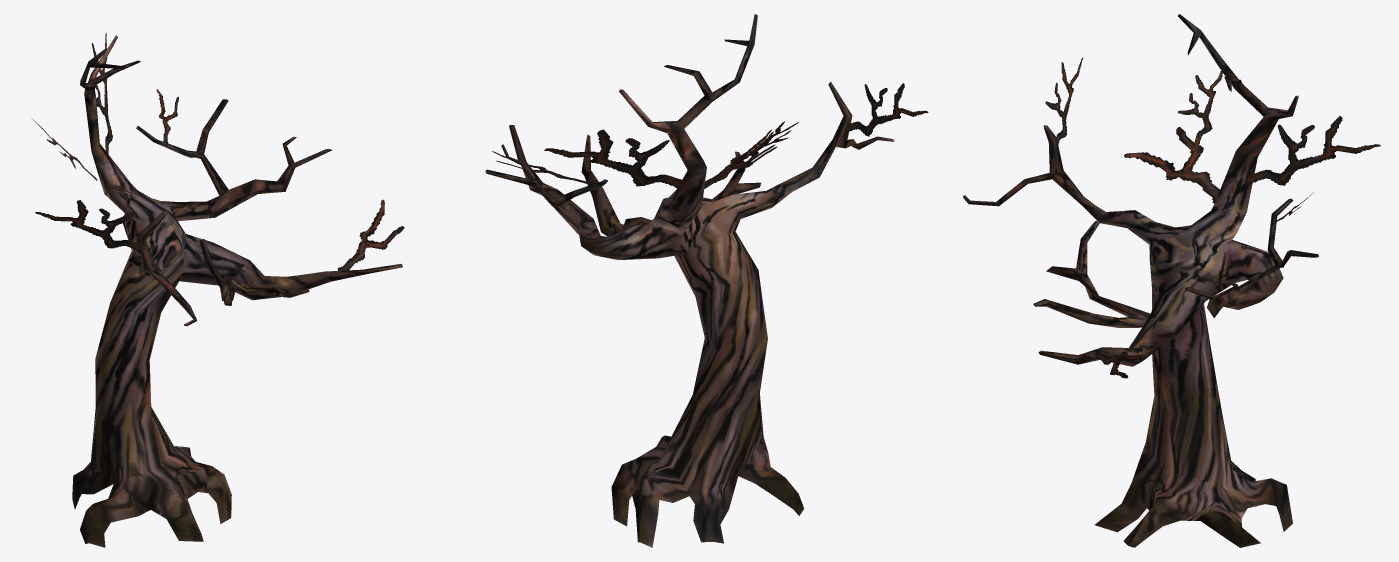
The model's file is FOL_DeadTreeA.FBX.
3 renders of one model, left to right at view 1: azimuth 30°, elevation 25°; view 2: azimuth 150°, elevation 25°; view 3: azimuth 270°, elevation 25°, orthographic. The views are drawn at different scales.
Parts seen in each view (by area): view 1: FOL_DeadTreeA; view 2: FOL_DeadTreeA; view 3: FOL_DeadTreeA.
Boxes of the visible parts, box(x1,y1,x2,y2) form: FOL_DeadTreeA: box(31, 33, 404, 547); FOL_DeadTreeA: box(485, 14, 928, 547); FOL_DeadTreeA: box(963, 14, 1380, 547).
Size of the model in its own units: 751 by 803 by 626.
